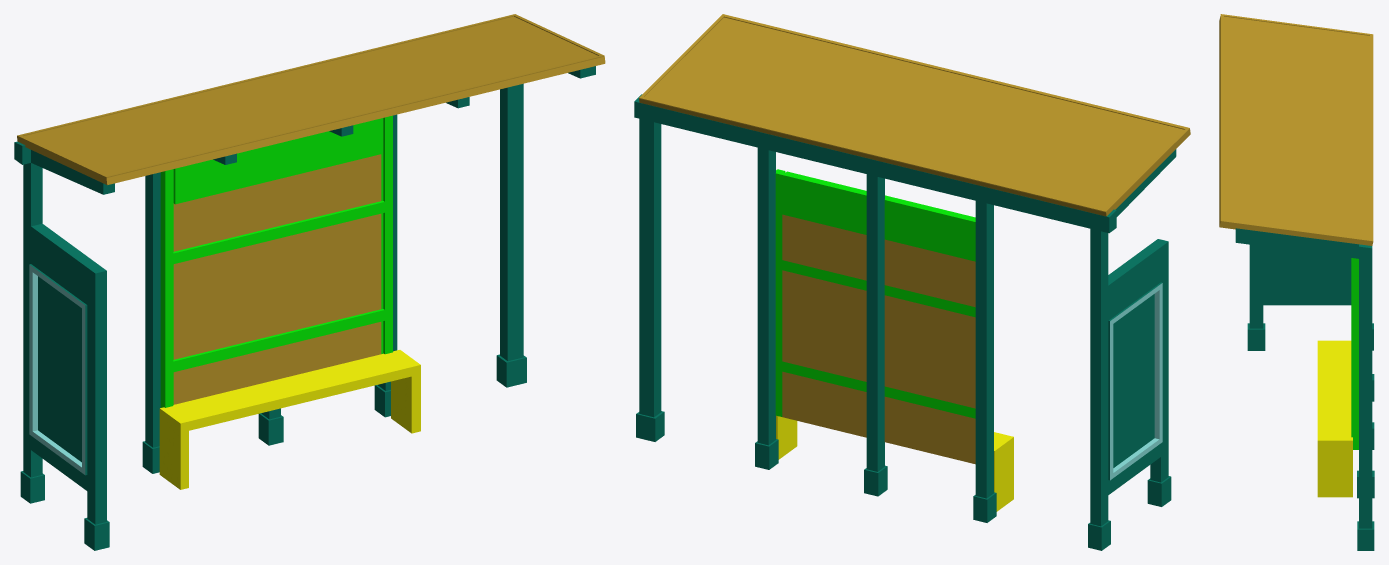
The model's file is SM_abriBus.fbx.
3 renders of one model, left to right at view 1: azimuth 30°, elevation 25°; view 2: azimuth 150°, elevation 25°; view 3: azimuth 270°, elevation 25°, orthographic. The views are drawn at different scales.
Visible parts, largest first — view 1: SM_abriBus; view 2: SM_abriBus; view 3: SM_abriBus.
Part boxes in pixels (x1,y1,x2,y2): SM_abriBus: (14,14,605,550); SM_abriBus: (634,14,1190,550); SM_abriBus: (1219,14,1374,550).
Bounding box in the file's own units: 2.37 × 1.73 × 0.7378.
